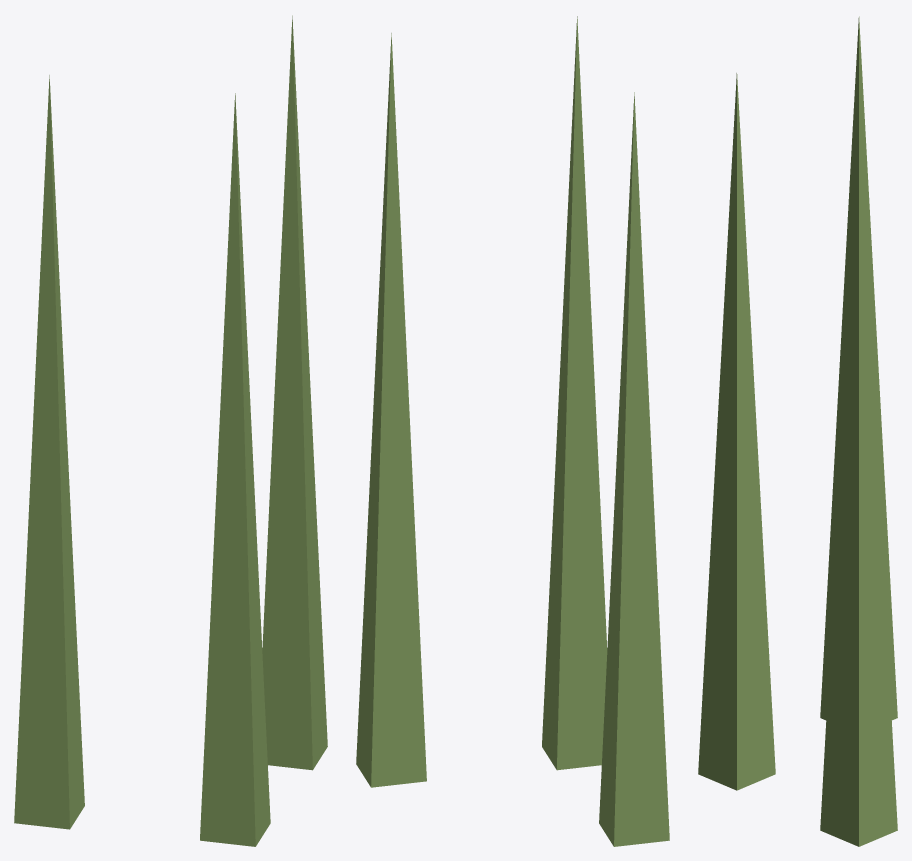
File: reed_01.glb
3 views of the same model, side by side, from view 1: azimuth 30°, elevation 25°; view 2: azimuth 150°, elevation 25°; view 3: azimuth 270°, elevation 25° (orthographic). The views are drawn at different scales.
Size of the model in its own units: 0.62 by 1.4 by 0.36.
